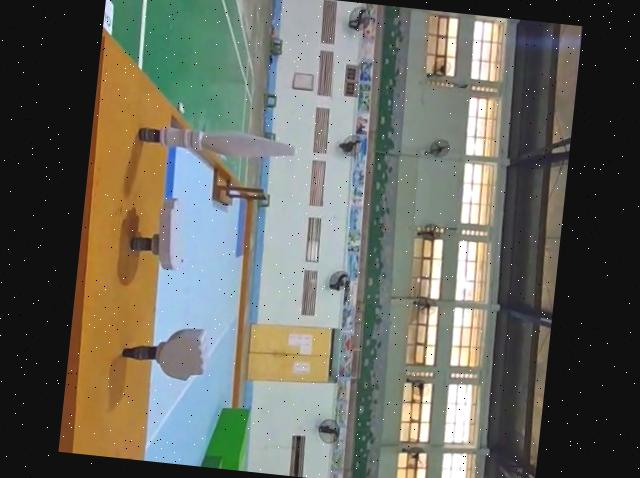Fist: (116, 317, 209, 387)
Hand: (121, 193, 189, 274)
Sph: (127, 114, 298, 166)
